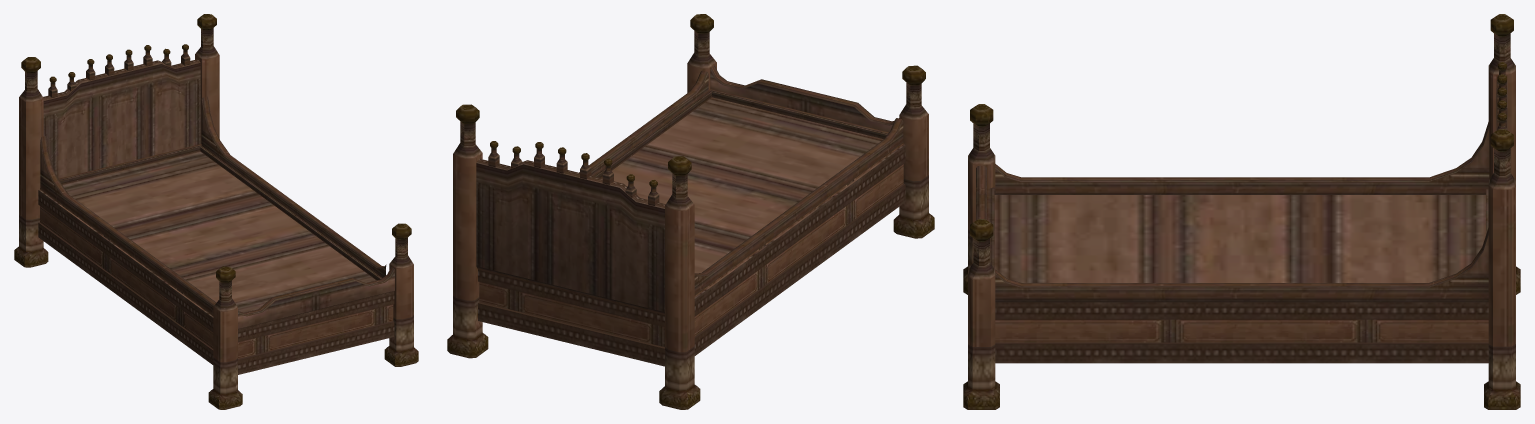
The model's file is o_mdl_env_propFurnitureBedSingleOrnateA-transformed.glb.
3 renders of one model, left to right at view 1: azimuth 30°, elevation 25°; view 2: azimuth 150°, elevation 25°; view 3: azimuth 270°, elevation 25°, orthographic. The views are drawn at different scales.
Visible parts, largest first — view 1: default; view 2: default; view 3: default.
Part boxes in pixels (<box>): default: <box>14,14,418,409</box>; default: <box>447,14,934,409</box>; default: <box>963,14,1520,409</box>.
Size of the model in its own units: 1.49 by 1.43 by 2.68.
1 material, 1 textured.
